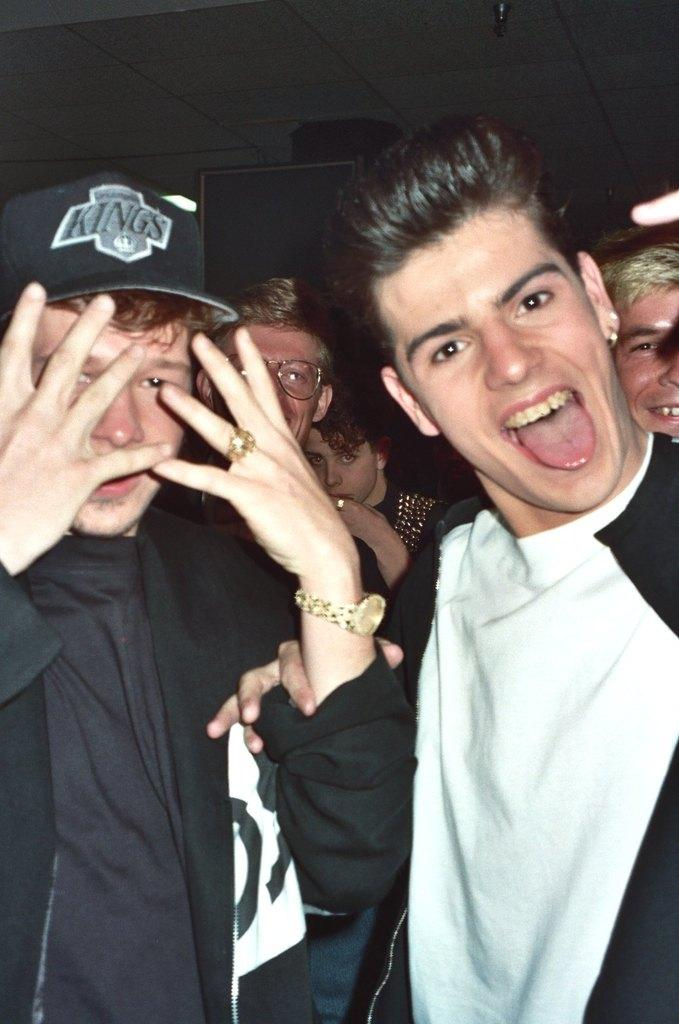Hat: (0, 169, 238, 333)
